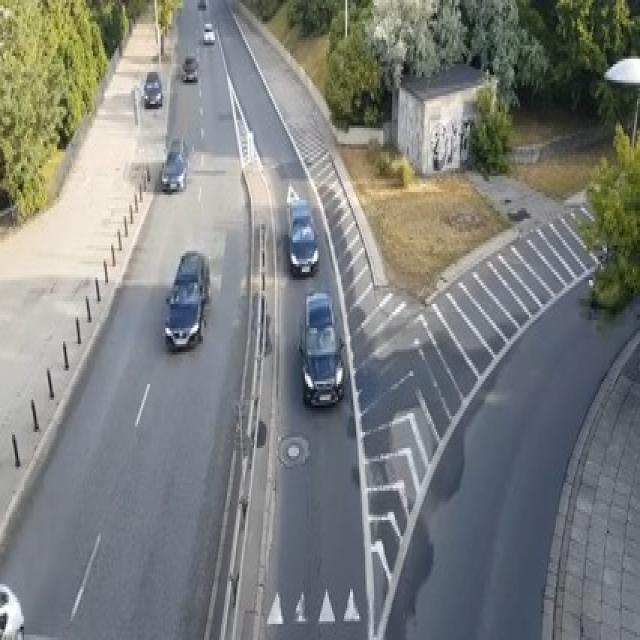car: (298, 291, 344, 405), (164, 248, 210, 349), (286, 184, 318, 275), (160, 136, 187, 192), (0, 582, 24, 638), (143, 69, 162, 107), (182, 53, 198, 80), (203, 21, 215, 43), (197, 0, 206, 8)
